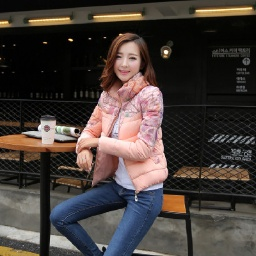face: (93, 30, 160, 91)
